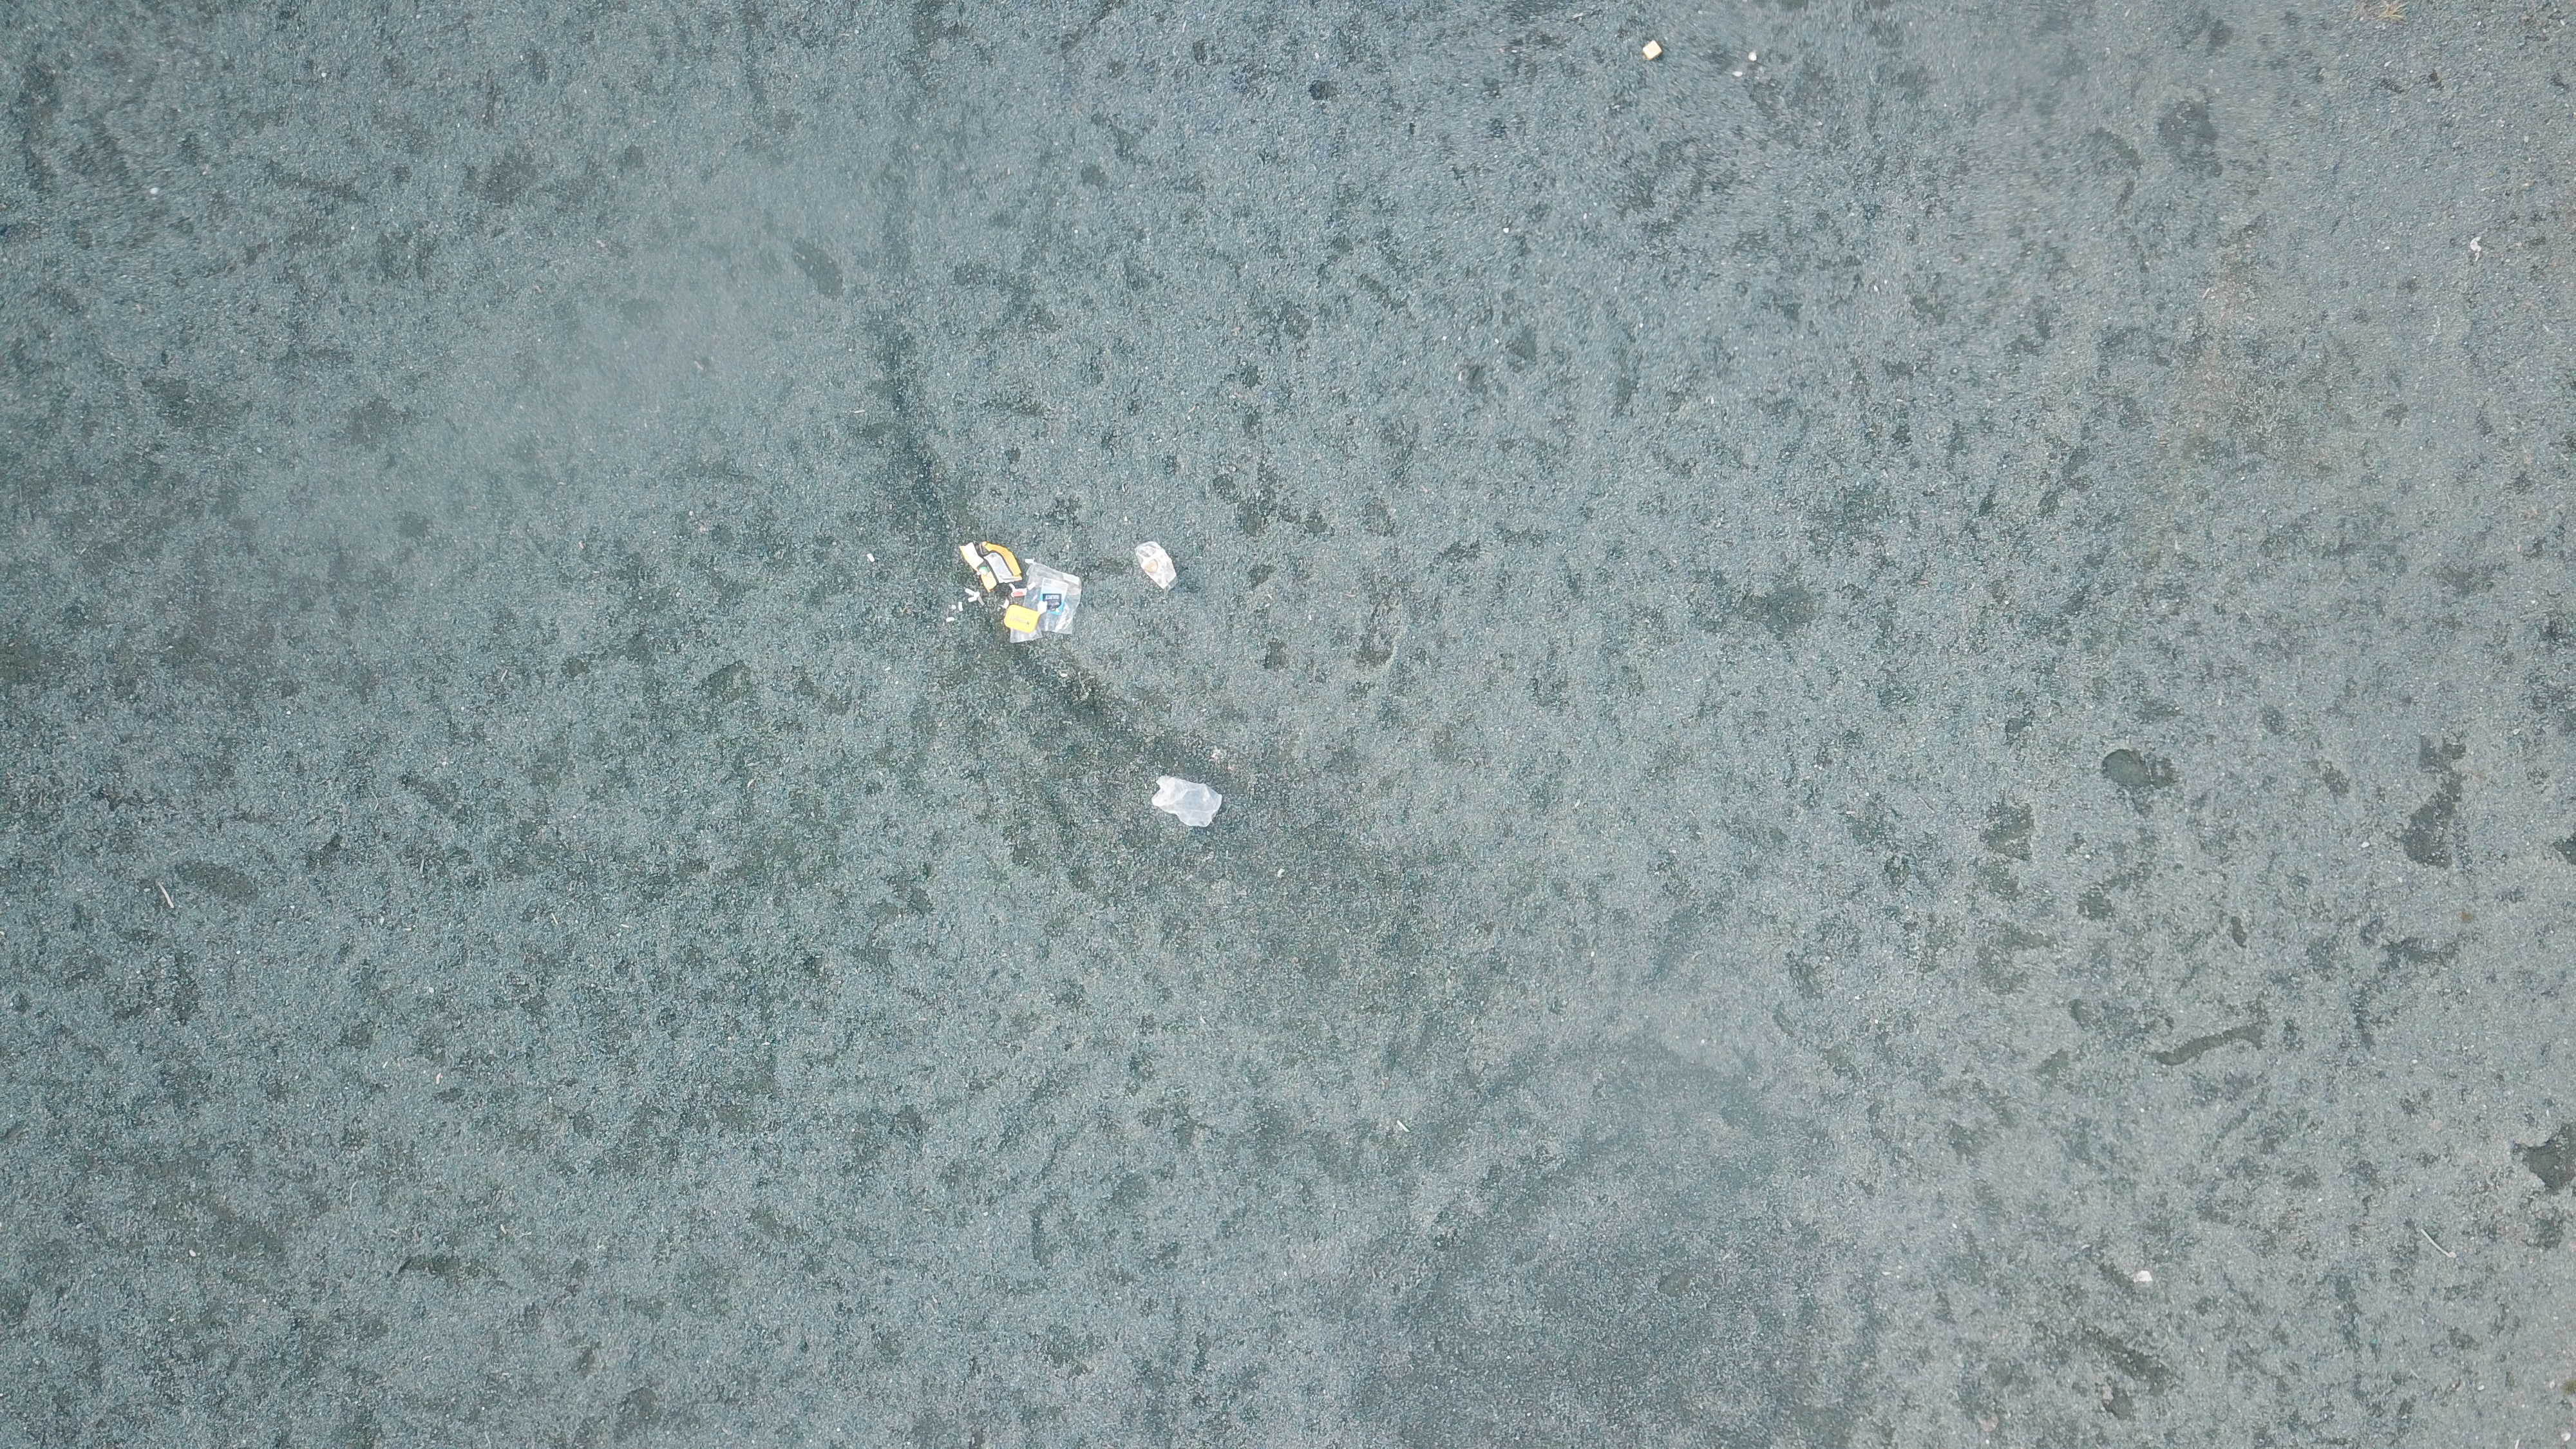Plastic: (1023, 563, 1083, 637), (1154, 777, 1223, 830), (955, 538, 1028, 587), (1136, 540, 1184, 593), (1003, 603, 1040, 632), (1642, 41, 1663, 60)
